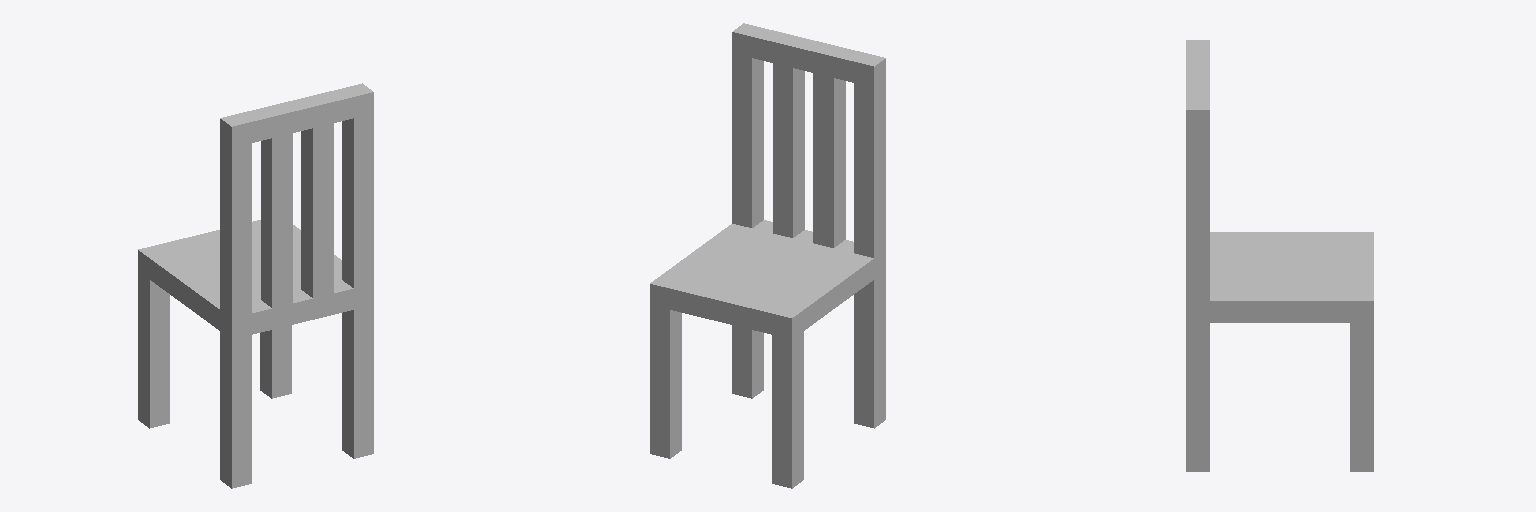
Rendered from chair.obj.
The picture shows the model from 3 angles: view 1: azimuth 30°, elevation 25°; view 2: azimuth 150°, elevation 25°; view 3: azimuth 270°, elevation 25°; orthographic projection.
Parts seen in each view (by area): view 1: chair; view 2: chair; view 3: chair.
Boxes of the visible parts, x1=… form: chair: x1=138, y1=83, x2=373, y2=488; chair: x1=650, y1=23, x2=885, y2=488; chair: x1=1186, y1=40, x2=1373, y2=471.
Size of the model in its own units: 7 by 17 by 8.